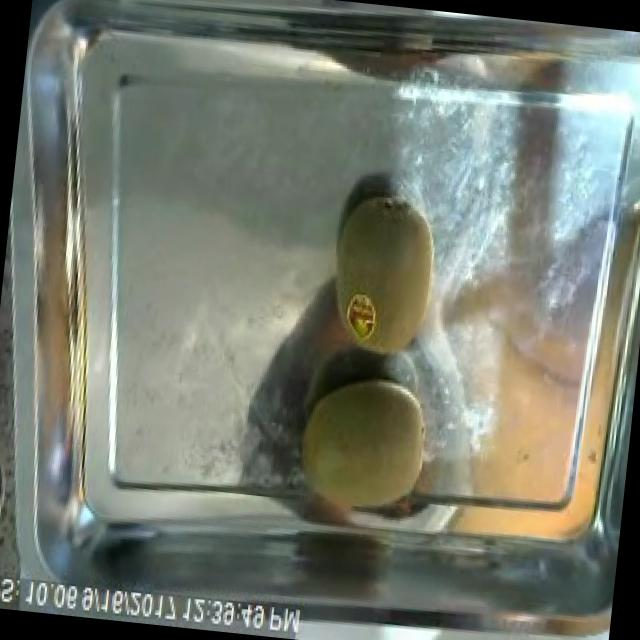Fruit: (278, 360, 442, 548), (313, 179, 456, 377)
